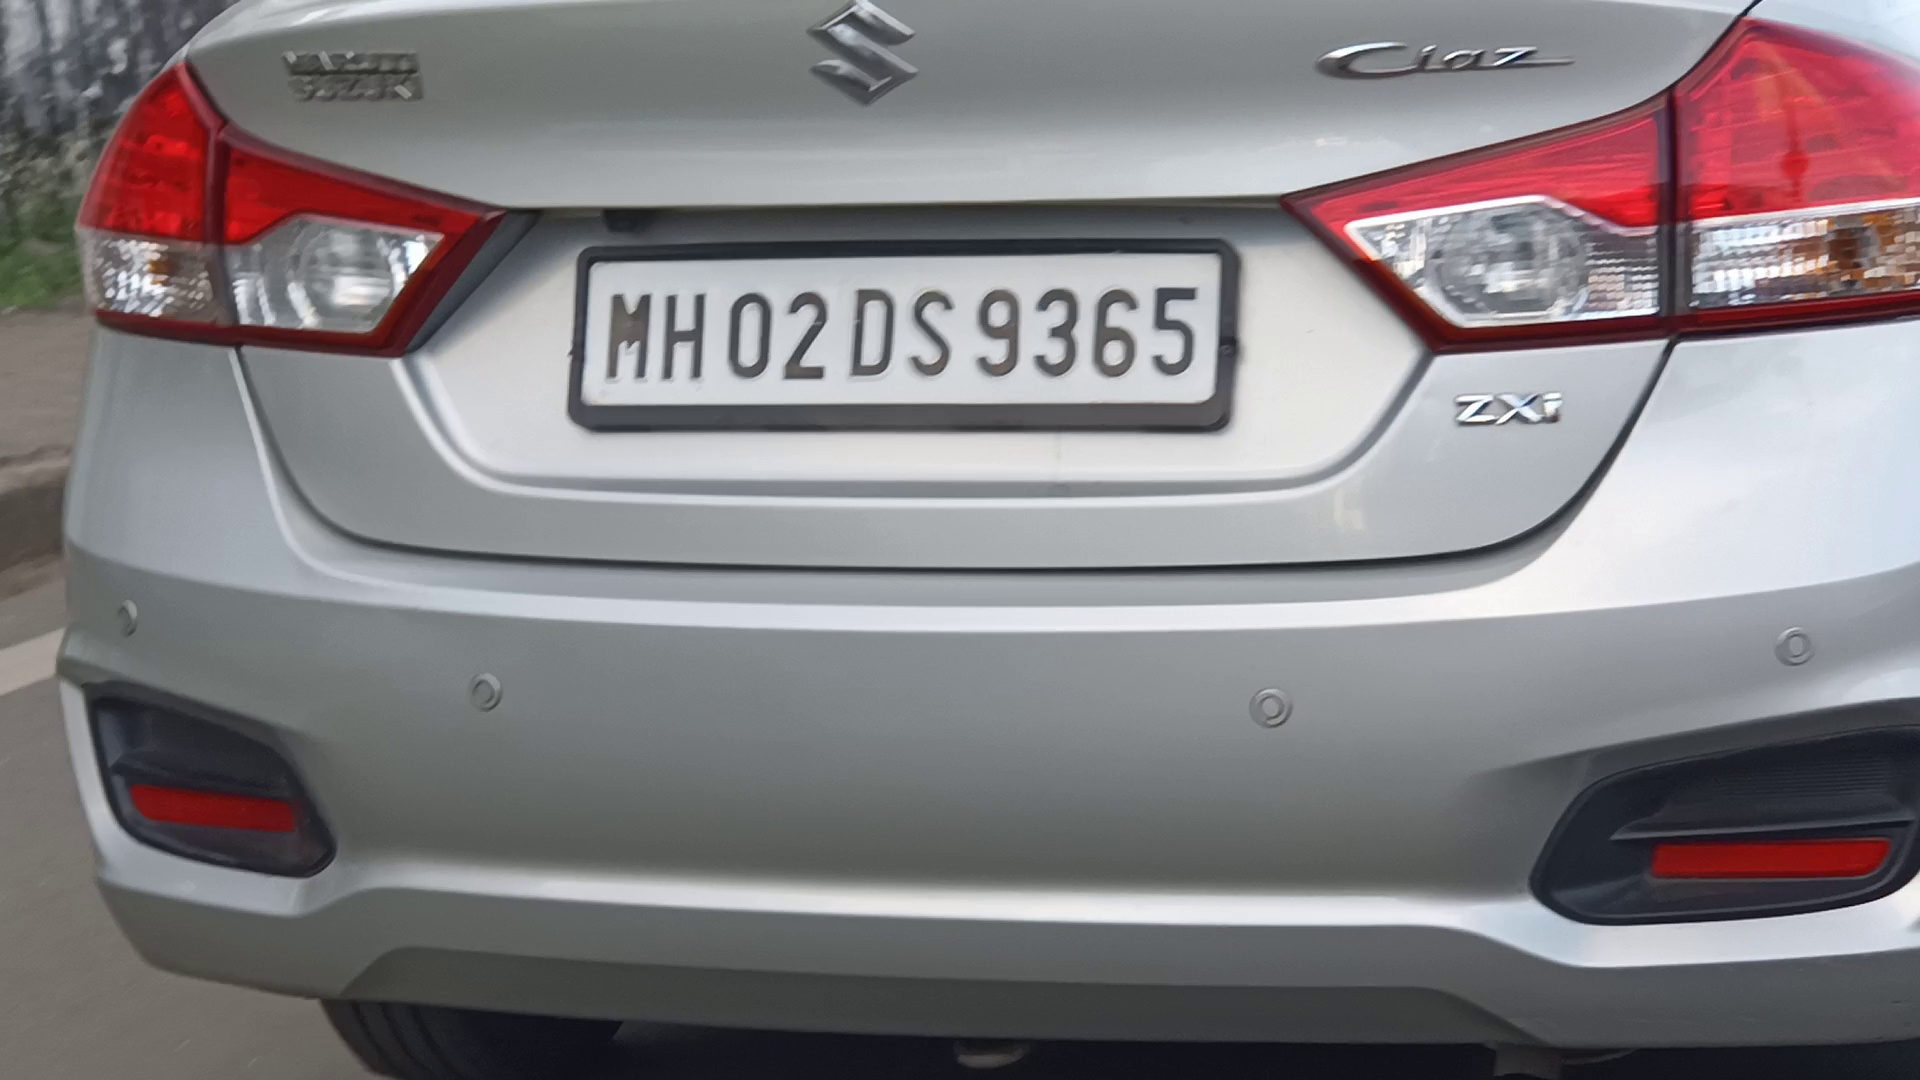MH02DS9365: (583, 255, 1218, 406)
